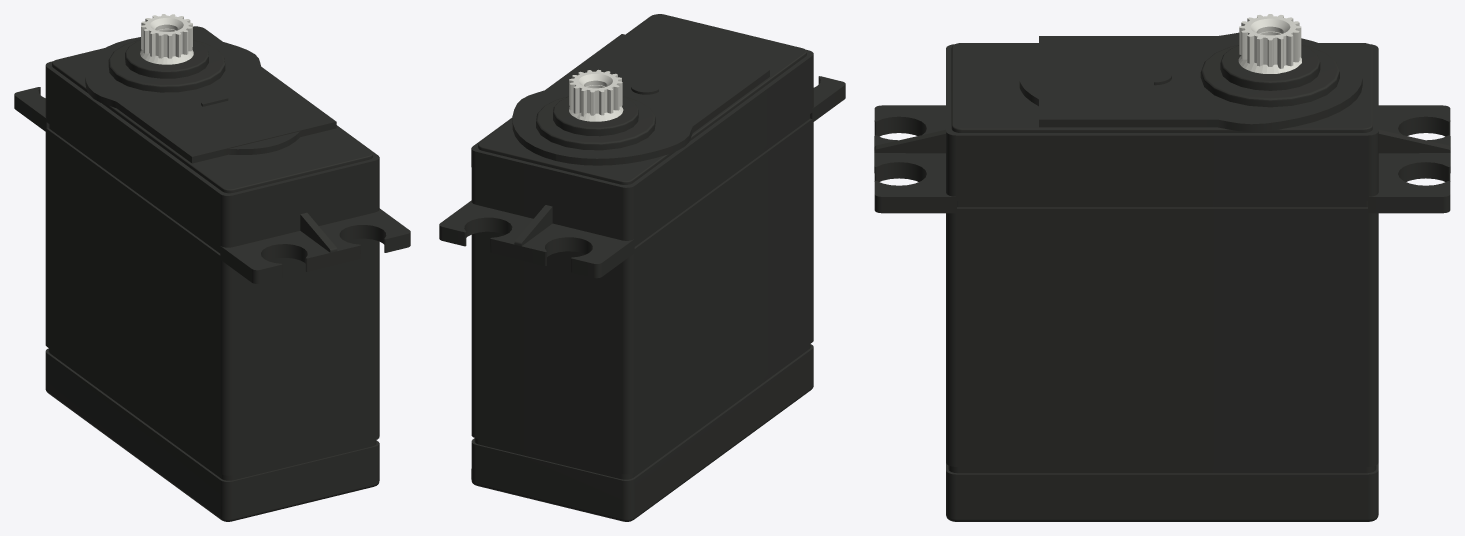
3 renders of one model, left to right at view 1: azimuth 30°, elevation 25°; view 2: azimuth 150°, elevation 25°; view 3: azimuth 270°, elevation 25°, orthographic. The views are drawn at different scales.
Parts seen in each view (by area): view 1: pCube103, pCube106, pCube105, pCylinder46, pGear1, pCylinder47, pCube107; view 2: pCube103, pCube106, pCube107, pCylinder46, pGear1, pCylinder47, pCube105; view 3: pCube103, pCube106, pCube107, pCube105, pCylinder46, pGear1, pCylinder47.
Boxes of the visible parts, <box> form: pCube103: <box>45,26,379,521</box>; pCube106: <box>85,36,336,163</box>; pCube105: <box>220,208,410,283</box>; pCylinder46: <box>108,40,225,92</box>; pGear1: <box>140,14,193,64</box>; pCylinder47: <box>125,40,208,78</box>; pCube107: <box>14,87,49,132</box>; pCube103: <box>471,14,813,521</box>; pCube106: <box>512,34,769,165</box>; pCube107: <box>439,200,634,278</box>; pCylinder46: <box>536,96,655,150</box>; pGear1: <box>569,69,623,121</box>; pCylinder47: <box>553,97,638,136</box>; pCube105: <box>810,76,845,122</box>; pCube103: <box>946,43,1378,521</box>; pCube106: <box>1019,32,1362,131</box>; pCube107: <box>1368,105,1450,213</box>; pCube105: <box>874,105,956,213</box>; pCylinder46: <box>1200,45,1339,107</box>; pGear1: <box>1238,14,1301,73</box>; pCylinder47: <box>1220,45,1320,90</box>.
Size of the model in its own units: 2.02 by 5.33 by 4.6.
2 materials, 2 textured.
